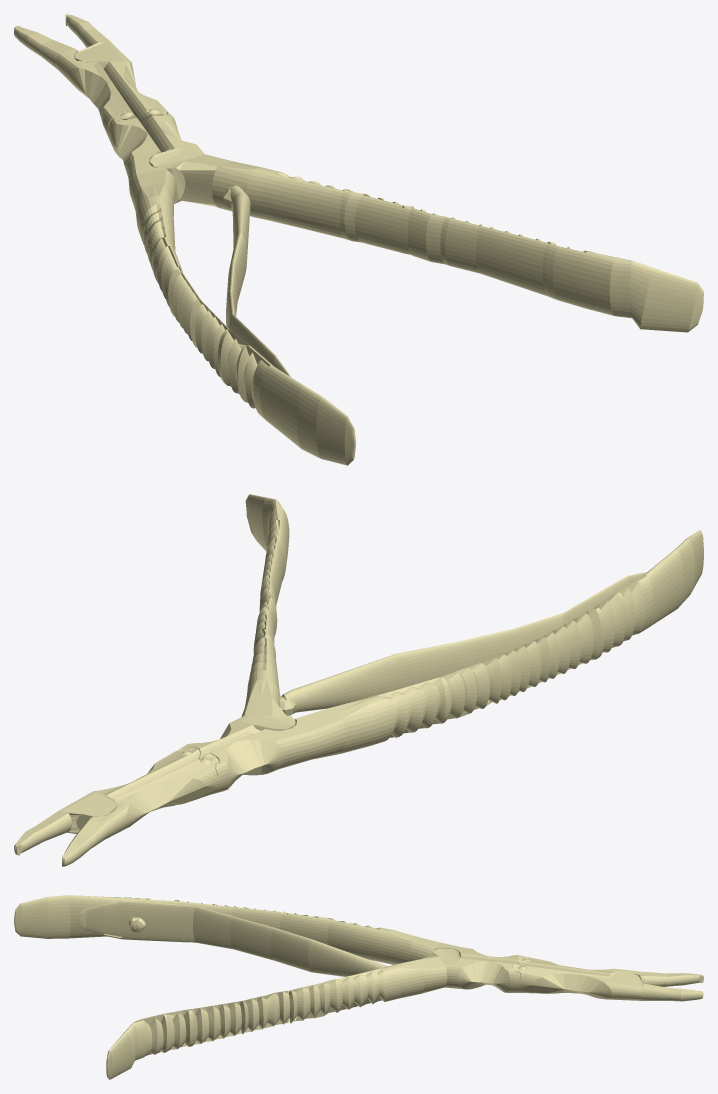
The model's file is TangGougeLeksellBojdSmal.fbx.
3 views of the same model, one above another, from view 1: azimuth 30°, elevation 25°; view 2: azimuth 150°, elevation 25°; view 3: azimuth 270°, elevation 25° (orthographic). The views are drawn at different scales.
Parts seen in each view (by area): view 1: Right, Left; view 2: Left, Right; view 3: Left, Right.
Boxes of the visible parts, <box> form: Right: <box>65,14,703,332</box>; Left: <box>14,26,355,465</box>; Left: <box>62,530,703,866</box>; Right: <box>14,494,295,855</box>; Left: <box>14,895,703,986</box>; Right: <box>106,948,703,1079</box>.
Bounding box in the file's own units: 159 × 24.49 × 320.
